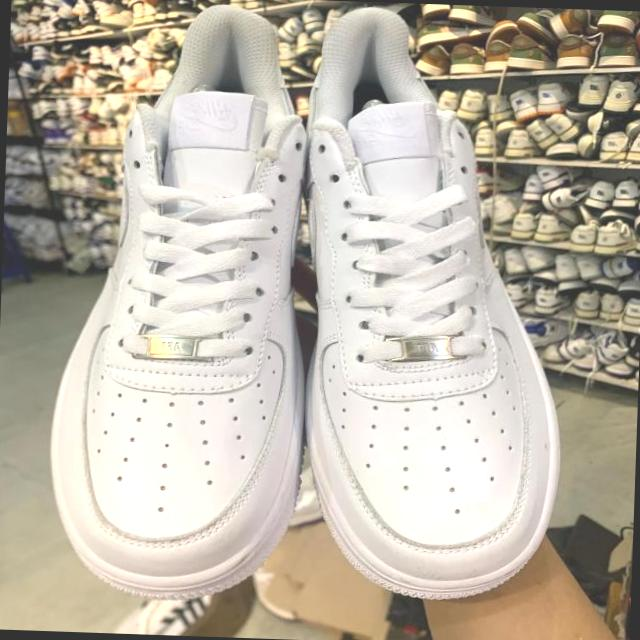nike_fake_airforce: (295, 3, 584, 603), (42, 0, 319, 604)
